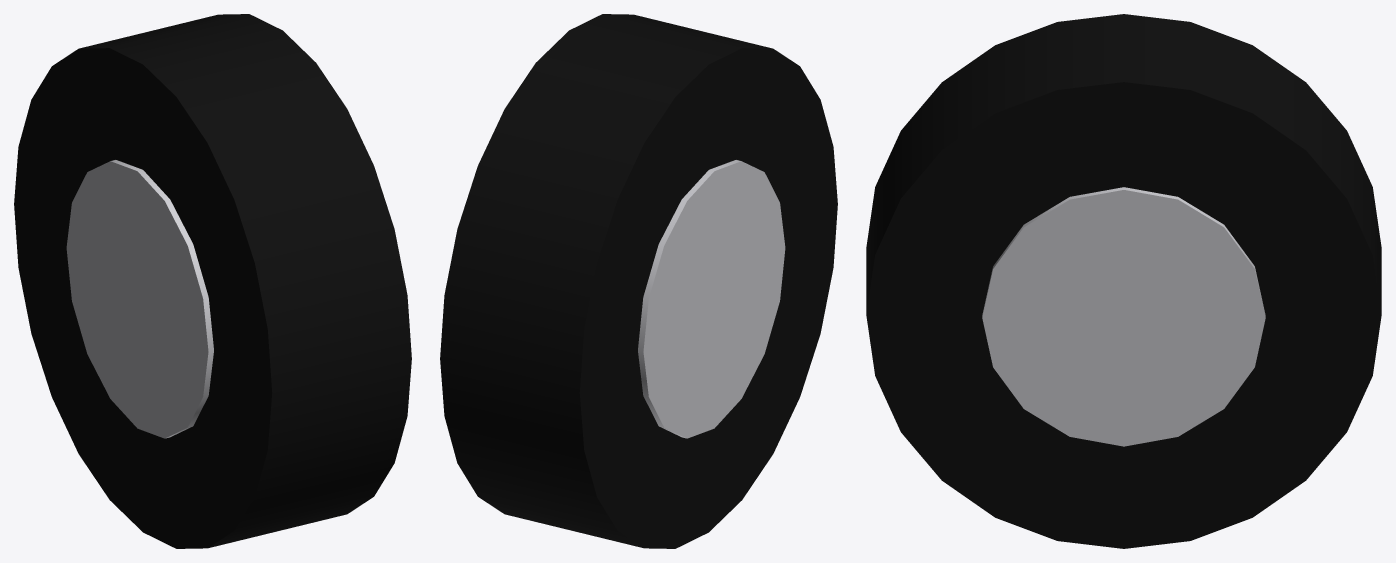
Rendered from tangent_tire.glb.
The picture shows the model from 3 angles, left to right: view 1: azimuth 30°, elevation 25°; view 2: azimuth 150°, elevation 25°; view 3: azimuth 270°, elevation 25°; orthographic projection.
Visible parts, largest first — view 1: shaper; view 2: shaper; view 3: shaper.
Part boxes in pixels (<box>): shaper: <box>14,14,411,548</box>; shaper: <box>440,14,837,548</box>; shaper: <box>866,14,1381,548</box>.
Size of the model in its own units: 0.27 by 0.8 by 0.8.
2 materials, 2 textured.
